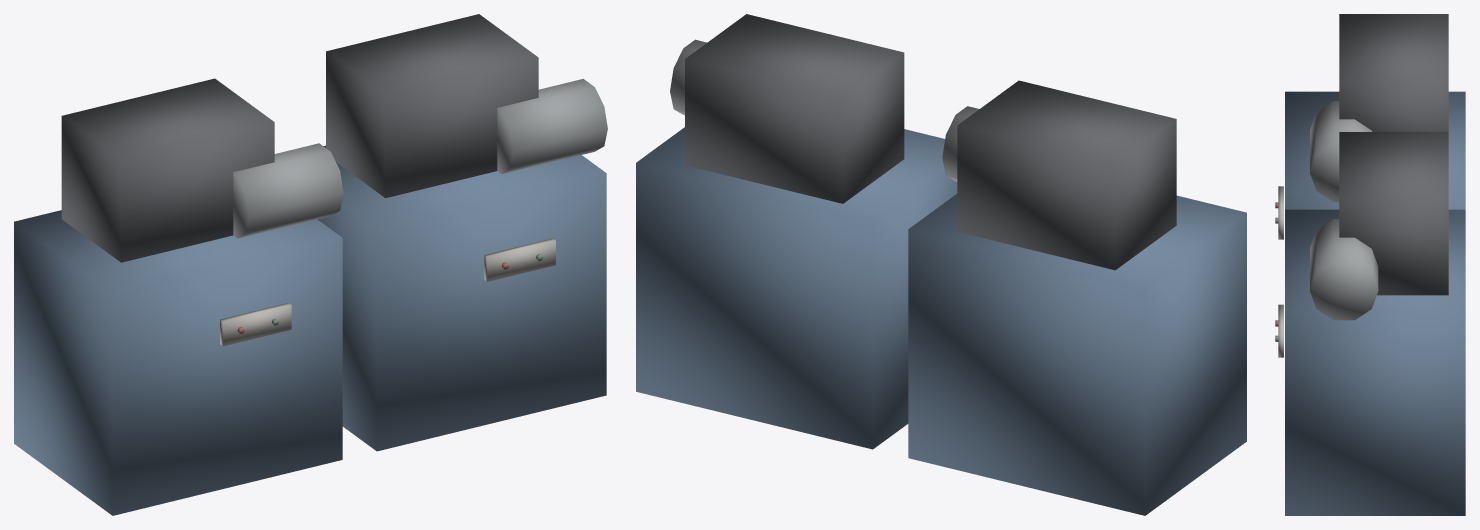
File: rolling_tool_chest__cluster.glb
The picture shows the model from 3 angles, left to right: view 1: azimuth 30°, elevation 25°; view 2: azimuth 150°, elevation 25°; view 3: azimuth 270°, elevation 25°; orthographic projection. The views are drawn at different scales.
Parts seen in each view (by area): view 1: world; view 2: world; view 3: world.
Boxes of the visible parts, bbox=[...] form: world: bbox=[14, 14, 607, 515]; world: bbox=[636, 14, 1246, 515]; world: bbox=[1275, 14, 1465, 515].
Size of the model in its own units: 1.73 by 1.05 by 0.611.
